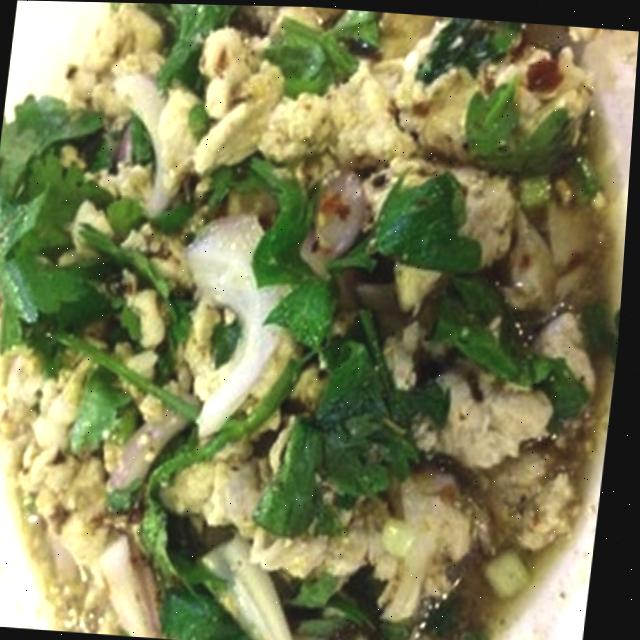鸡肉料理 含炸鸡: (0, 4, 638, 640)
